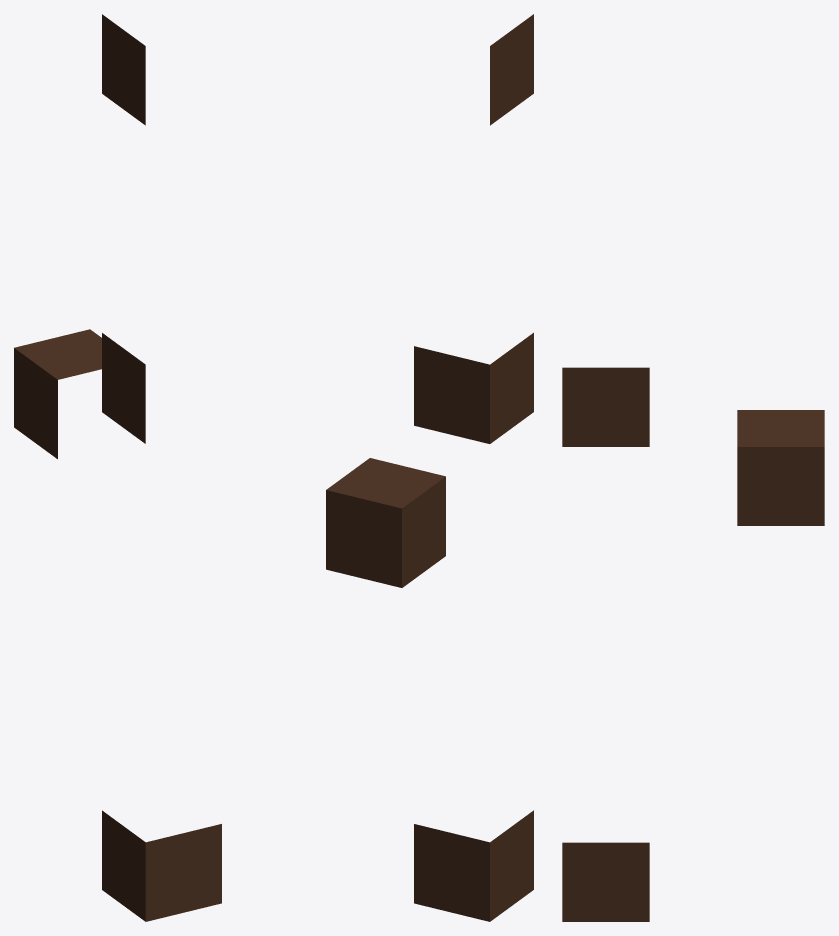
Rendered from tree-cherry-0p9-white-4e3220.gltf.
3 renders of one model, left to right at view 1: azimuth 30°, elevation 25°; view 2: azimuth 150°, elevation 25°; view 3: azimuth 270°, elevation 25°, orthographic.
Visible parts, largest first — view 1: tree-cherry-0p9-white-4e3220; view 2: tree-cherry-0p9-white-4e3220; view 3: tree-cherry-0p9-white-4e3220.
Boxes of the visible parts, left/top/right/bottom form: tree-cherry-0p9-white-4e3220: left=14, top=14, right=221, bottom=921; tree-cherry-0p9-white-4e3220: left=326, top=14, right=533, bottom=921; tree-cherry-0p9-white-4e3220: left=562, top=367, right=824, bottom=921.
Size of the model in its own units: 2 by 11 by 3.
